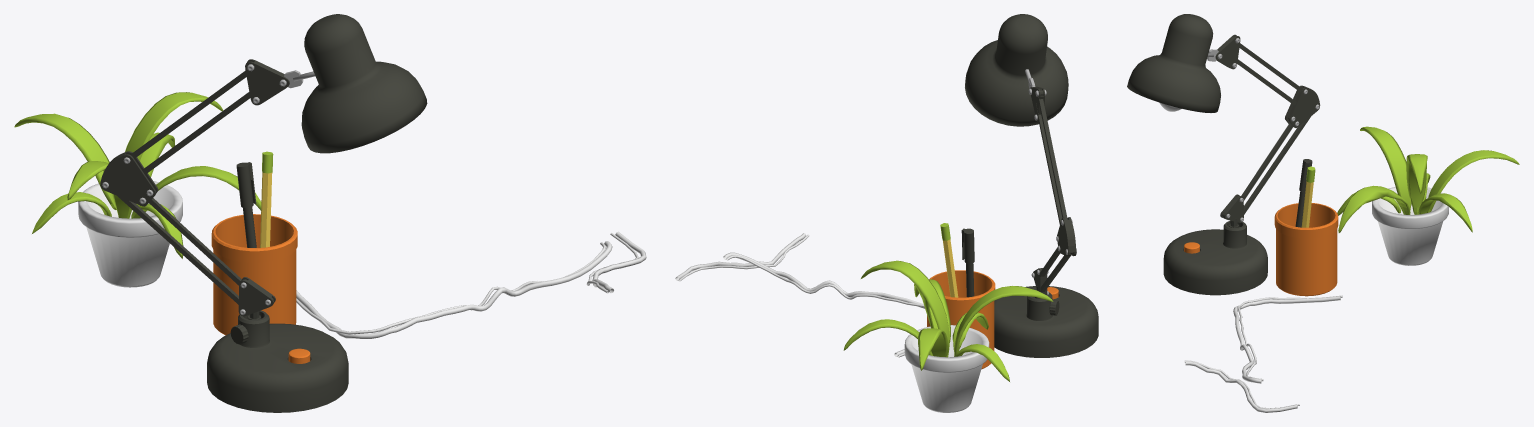
The model's file is Desk Props.fbx.
3 views of the same model, side by side, from view 1: azimuth 30°, elevation 25°; view 2: azimuth 150°, elevation 25°; view 3: azimuth 270°, elevation 25° (orthographic). The views are drawn at different scales.
Visible parts, largest first — view 1: Cube.133, Cylinder.009, ref004, Cylinder005, ref004.001, Cylinder.019, Cube.086, Hanging Cables.001, Cylinder002, Cylinder006, Hanging Cables.004, Hanging Cables; view 2: Cube.133, Cylinder.009, ref004, ref004.001, Cylinder005, Cube.086, Cylinder.019, Hanging Cables.001, Cylinder002, Hanging Cables.004, Cylinder006, Hanging Cables (+1 smaller); view 3: Cube.133, Cylinder.009, ref004, Cylinder005, ref004.001, Cylinder.019, Cube.086, Hanging Cables.001, Hanging Cables, Cylinder006, Cylinder002, Hanging Cables.004.
Boxes of the visible parts, x1,y1,x2,y2 form: Cube.133: (284,14,427,153); Cylinder.009: (207,310,348,412); ref004: (14,92,261,258); Cylinder005: (211,214,297,335); ref004.001: (78,181,182,287); Cylinder.019: (100,151,275,316); Cube.086: (130,59,289,174); Hanging Cables.001: (296,241,612,338); Cylinder002: (236,162,256,247); Cylinder006: (260,151,273,247); Hanging Cables.004: (296,242,605,334); Hanging Cables: (592,231,646,292); Cube.133: (965,14,1068,126); Cylinder.009: (994,286,1098,357); ref004: (843,260,1053,381); ref004.001: (904,325,989,412); Cylinder005: (927,270,995,369); Cube.086: (1028,86,1067,224); Cylinder.019: (1031,217,1076,295); Hanging Cables.001: (723,252,924,356); Cylinder002: (961,228,974,297); Hanging Cables.004: (726,255,924,357); Cylinder006: (940,223,958,297); Hanging Cables: (675,233,806,280); Cube.133: (1127,14,1220,112); Cylinder.009: (1163,218,1267,295); ref004: (1337,126,1519,232); Cylinder005: (1274,203,1338,296); ref004.001: (1372,187,1448,265); Cylinder.019: (1220,85,1320,222); Cube.086: (1215,34,1302,105); Hanging Cables.001: (1233,296,1340,383); Hanging Cables: (1185,361,1297,412); Cylinder006: (1301,166,1315,227); Cylinder002: (1295,159,1312,227); Hanging Cables.004: (1237,295,1342,381).
Size of the model in its own units: 2792 by 3110 by 2133.
